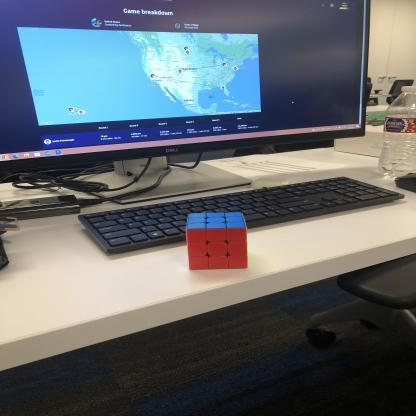SolvedCube: (186, 206, 254, 274)
